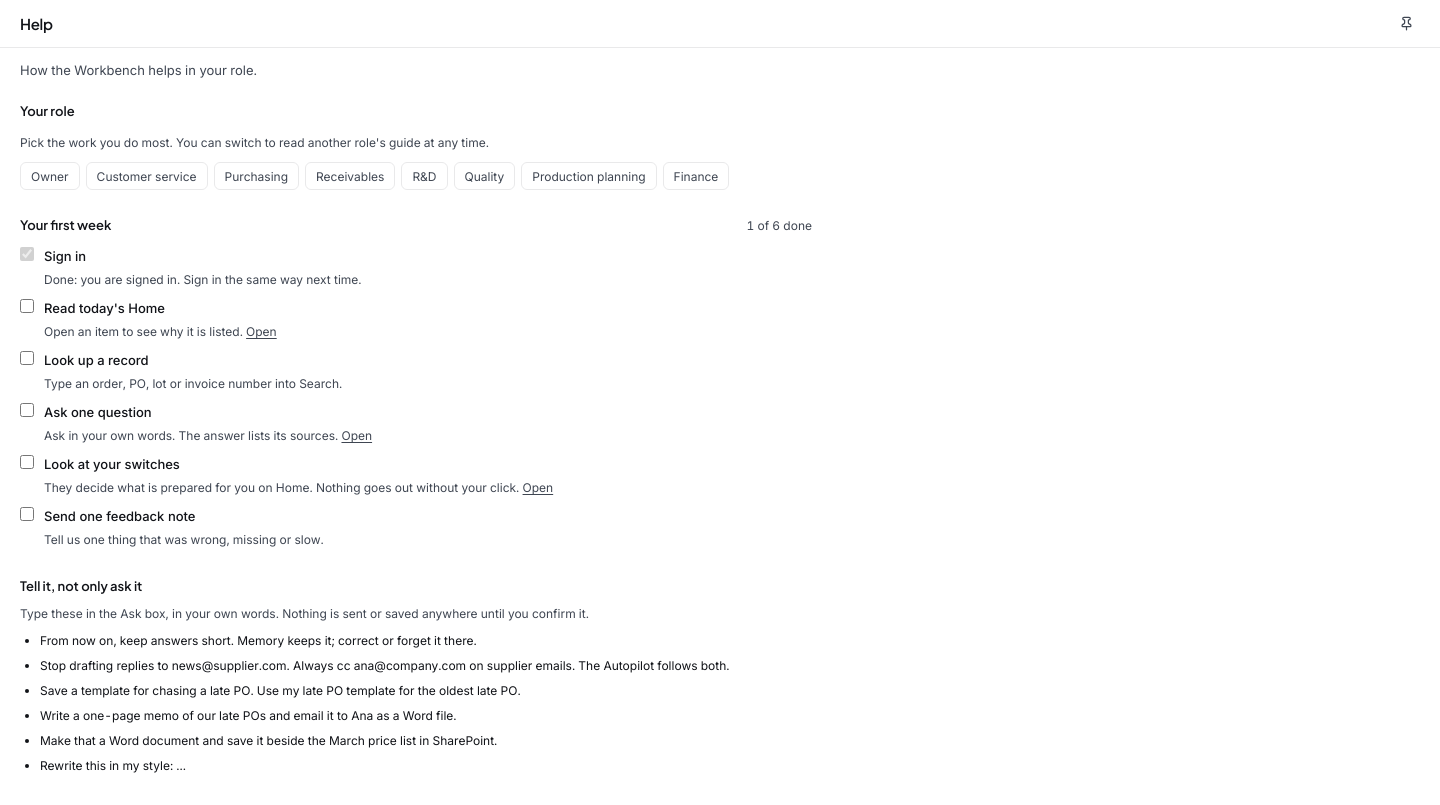
Scenario: the help page › includes Owner cleanly, gives truthful IT desktop guidance, and does not claim Microsoft sign-in is active
The image size is (1440, 805).
Click the radio button with test id "help-role-owner" at (50, 176), box [20,162,80,190]
(page scrolled)
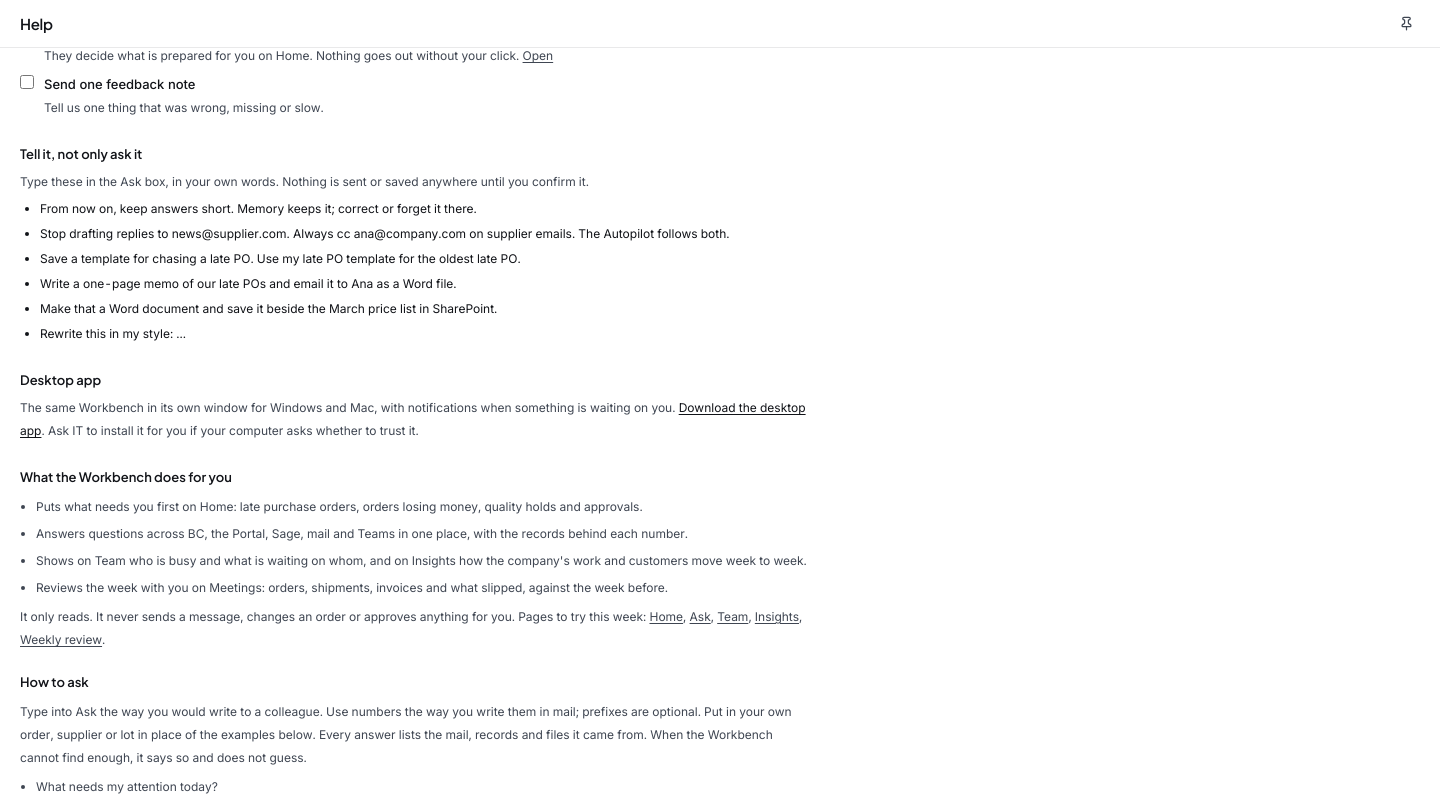
Expected: the element with test id "help-desktop" shows "Ask IT to install it for you", [41,423,419,438]
Expected: the element with test id "role-guide" shows "Puts what needs you first on Home", [36,499,643,514]
